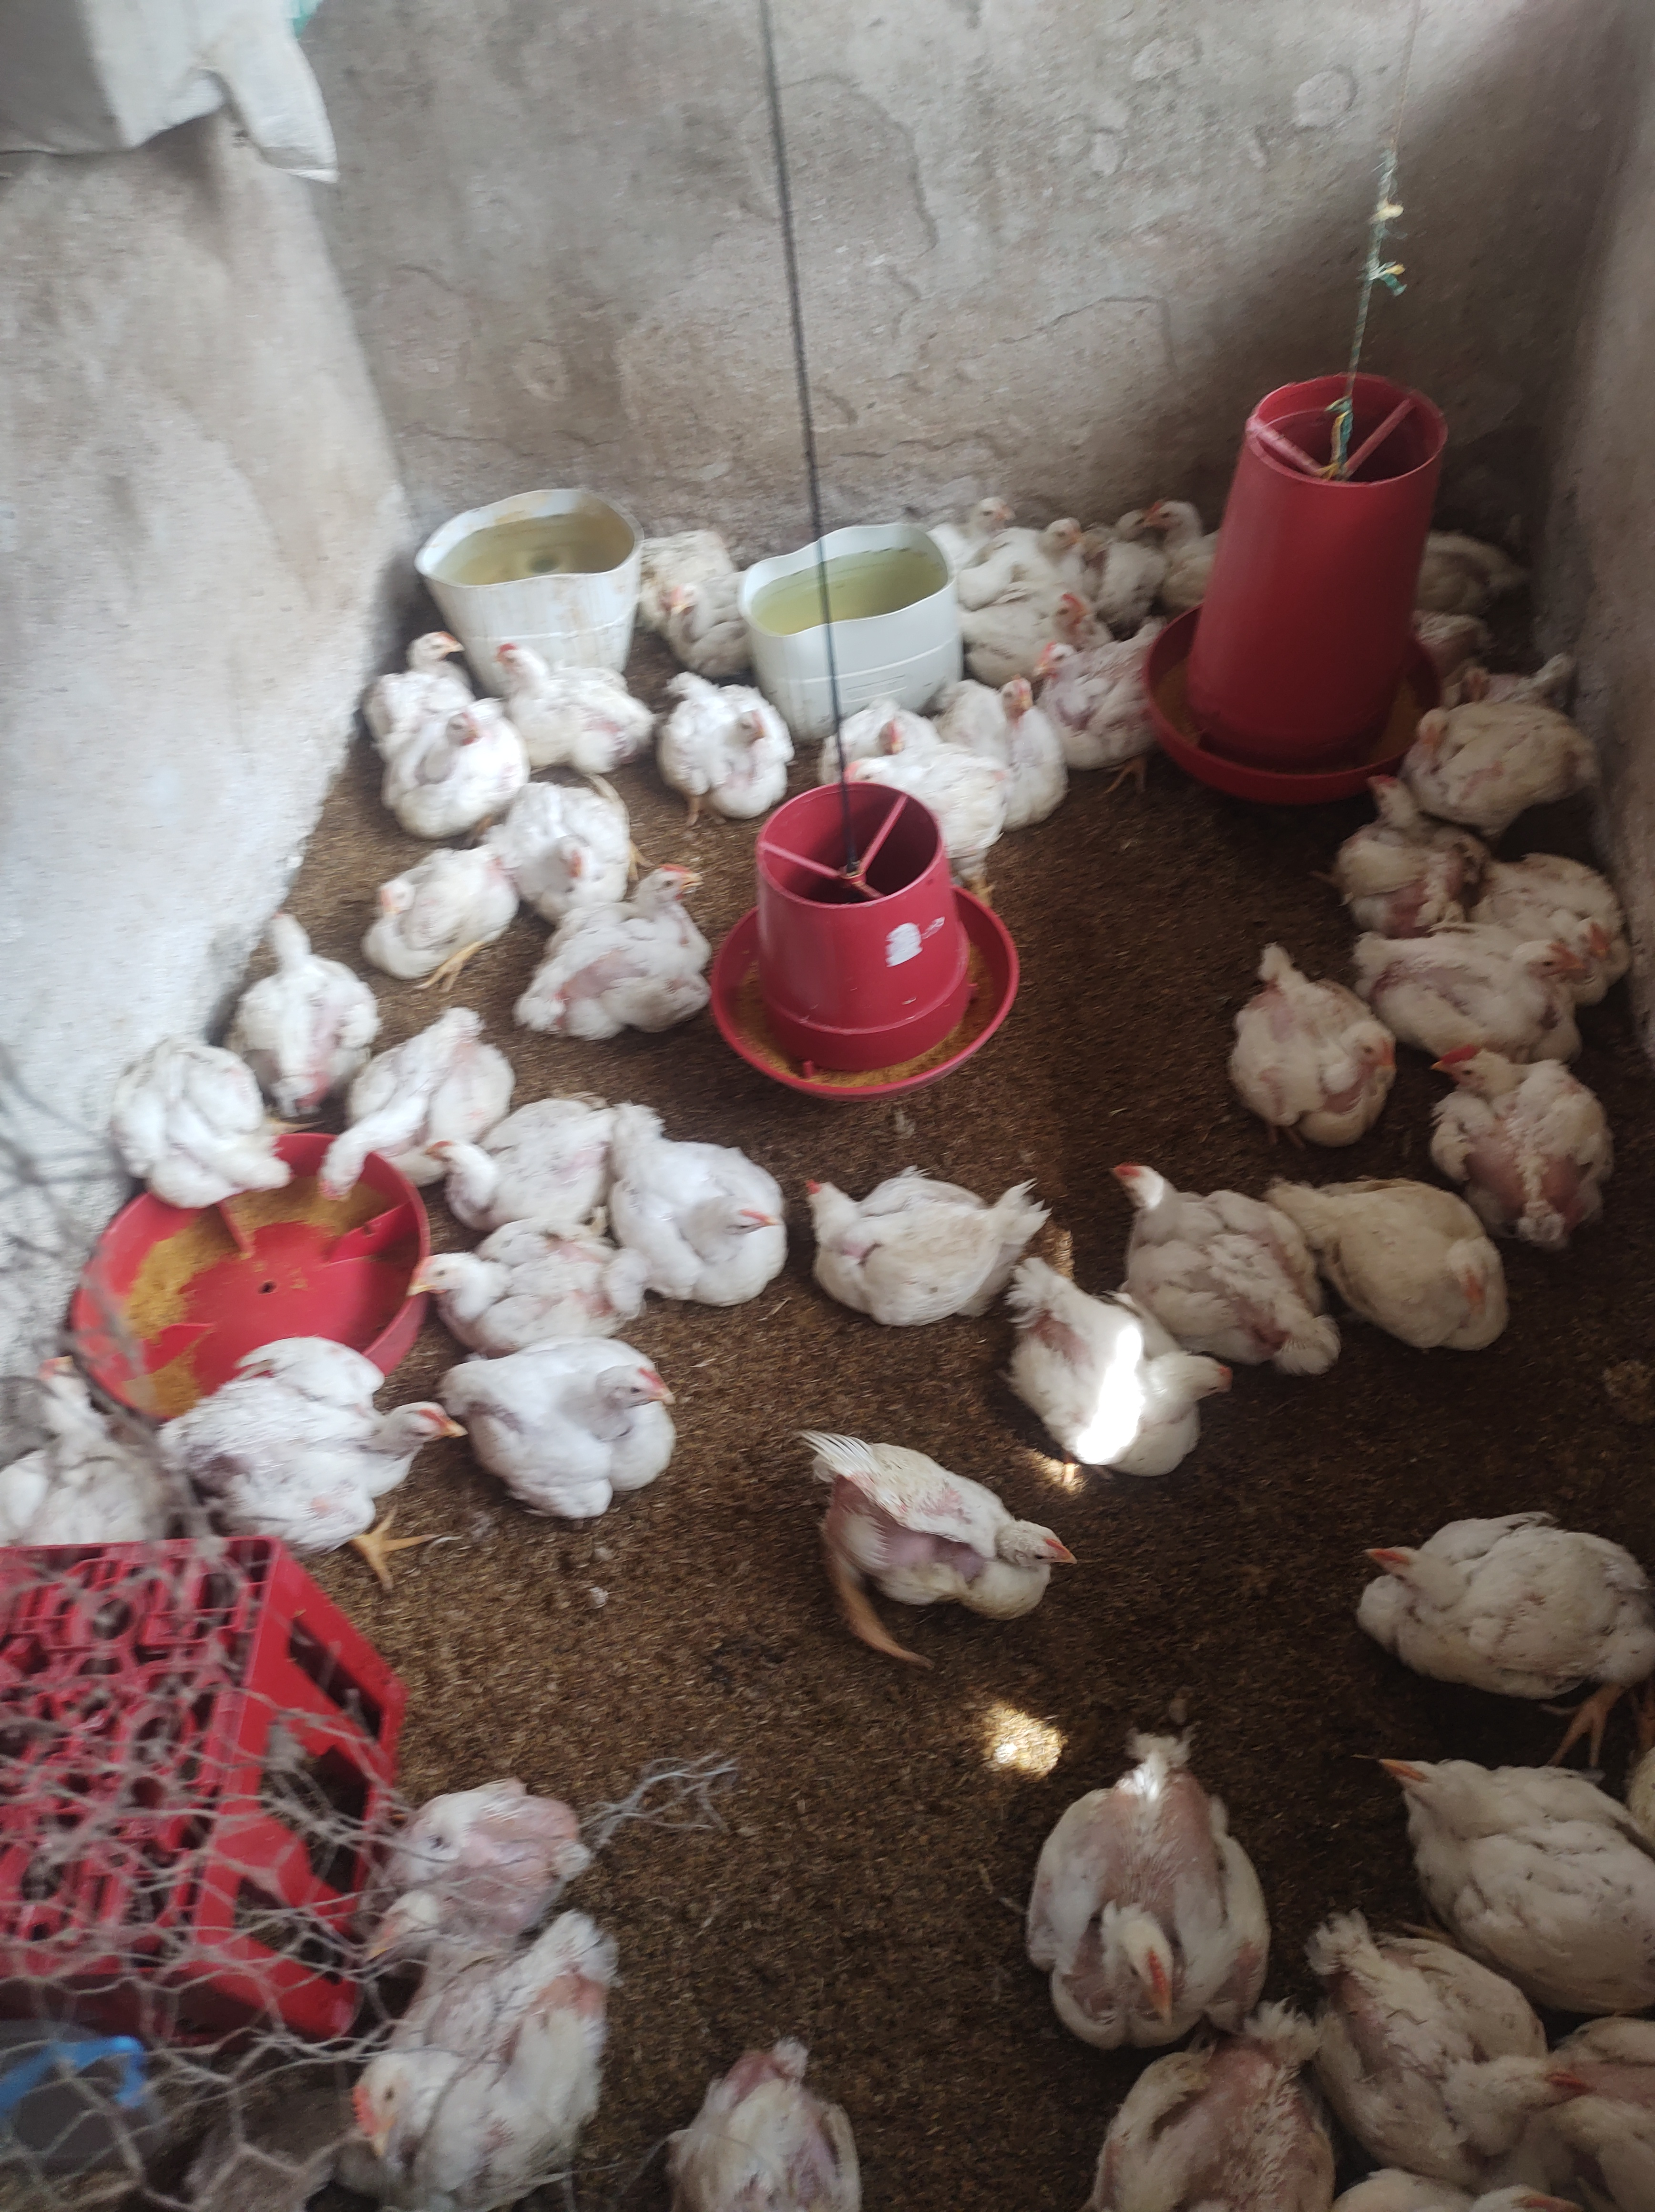Pollos: (311, 1897, 666, 2203), (1339, 1504, 1653, 1772), (1008, 1722, 1267, 2045), (1313, 1906, 1585, 2172), (1373, 1744, 1655, 1996), (172, 1329, 459, 1567), (798, 1412, 1071, 1661), (346, 1753, 600, 2010), (1106, 1132, 1325, 1391), (770, 1143, 1027, 1329), (1295, 1176, 1533, 1374), (1017, 1268, 1233, 1483), (1116, 2003, 1339, 2212), (433, 1349, 694, 1525), (1424, 1043, 1625, 1268), (641, 2035, 895, 2212), (607, 1083, 796, 1311), (94, 1019, 292, 1226), (320, 1009, 523, 1209), (382, 1219, 638, 1360), (1217, 923, 1387, 1132), (0, 1330, 136, 1563), (534, 861, 713, 1031), (219, 908, 381, 1096), (1394, 696, 1613, 831), (1361, 929, 1579, 1054), (847, 750, 1033, 894), (1323, 781, 1472, 943), (1036, 628, 1191, 781), (412, 1099, 593, 1226), (1556, 1972, 1655, 2203), (353, 831, 513, 974), (1505, 836, 1638, 1005), (499, 623, 643, 774), (504, 781, 666, 911), (641, 673, 786, 809), (1365, 2141, 1589, 2212), (382, 690, 516, 805), (1415, 504, 1530, 616), (954, 591, 1097, 670), (355, 624, 471, 715), (1156, 490, 1248, 591), (960, 676, 1055, 772), (1450, 659, 1591, 716), (676, 590, 753, 663), (840, 692, 918, 750), (1019, 511, 1085, 579), (940, 482, 1000, 556), (640, 541, 706, 602), (1121, 501, 1168, 544)
